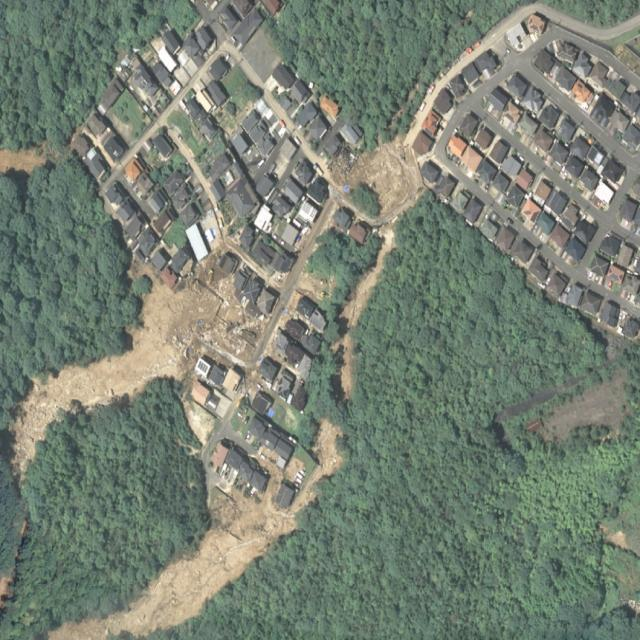landslide: (48, 421, 340, 640), (10, 280, 220, 482)
